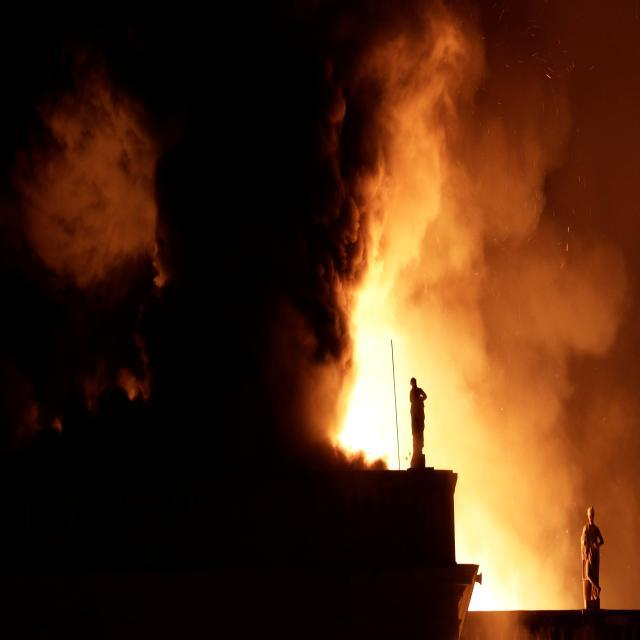Fire: (333, 261, 582, 609)
Smoke: (0, 0, 332, 462)
